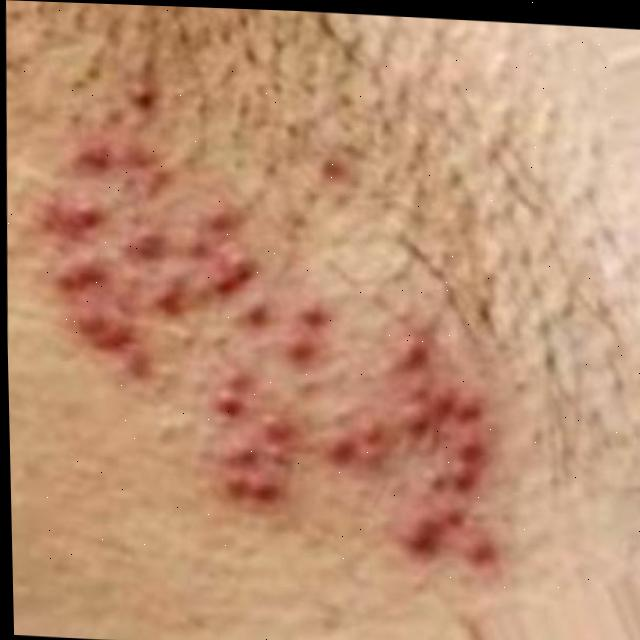Shingles: (23, 143, 497, 566)
